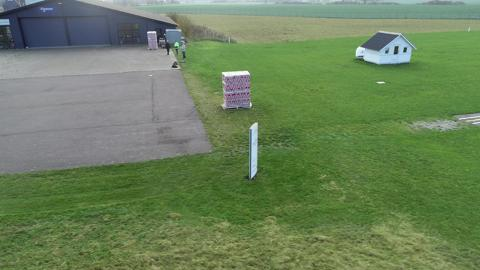RockwoolPallet: (146, 30, 159, 50)
